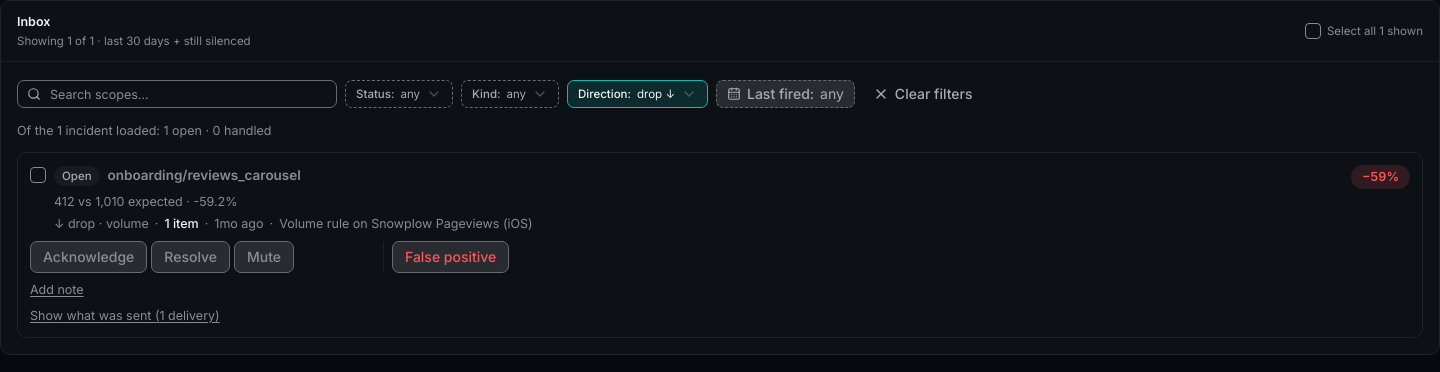
Test case: AlertingInbox — clearing cannot be undone by a pending scope search (ALR-50) › drops a scope typed inside the debounce window when Clear filters is pressed
The width and height of the screenshot is (1440, 372).
Type "checkout" into the search field labelled "Search scopes".
click(177, 94); type("checkout")  # box x1=17 y1=80 x2=337 y2=108
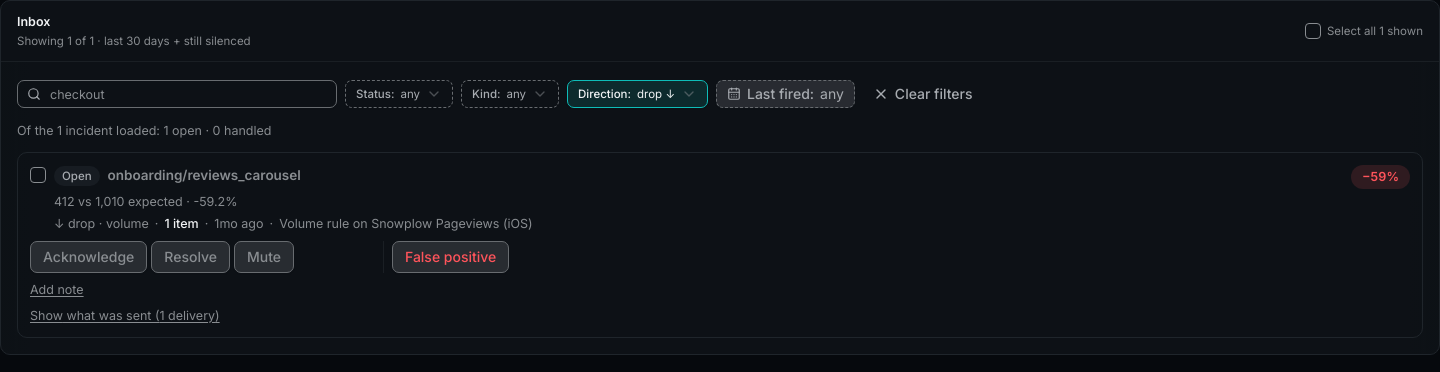
Click the button "Clear filters".
click(923, 94)  # box x1=863 y1=78 x2=983 y2=110
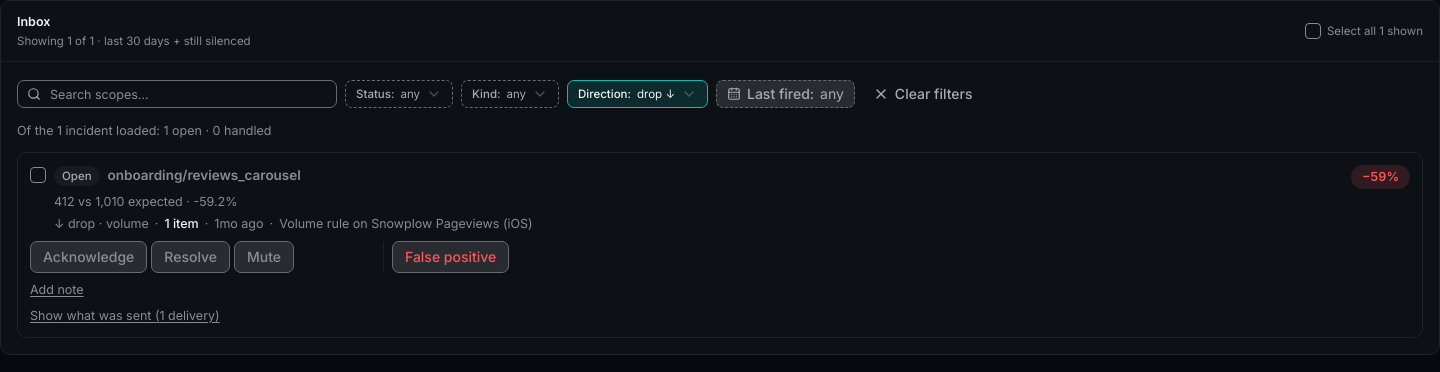
Now the search field labelled "Search scopes" is empty, box x1=17 y1=80 x2=337 y2=108
